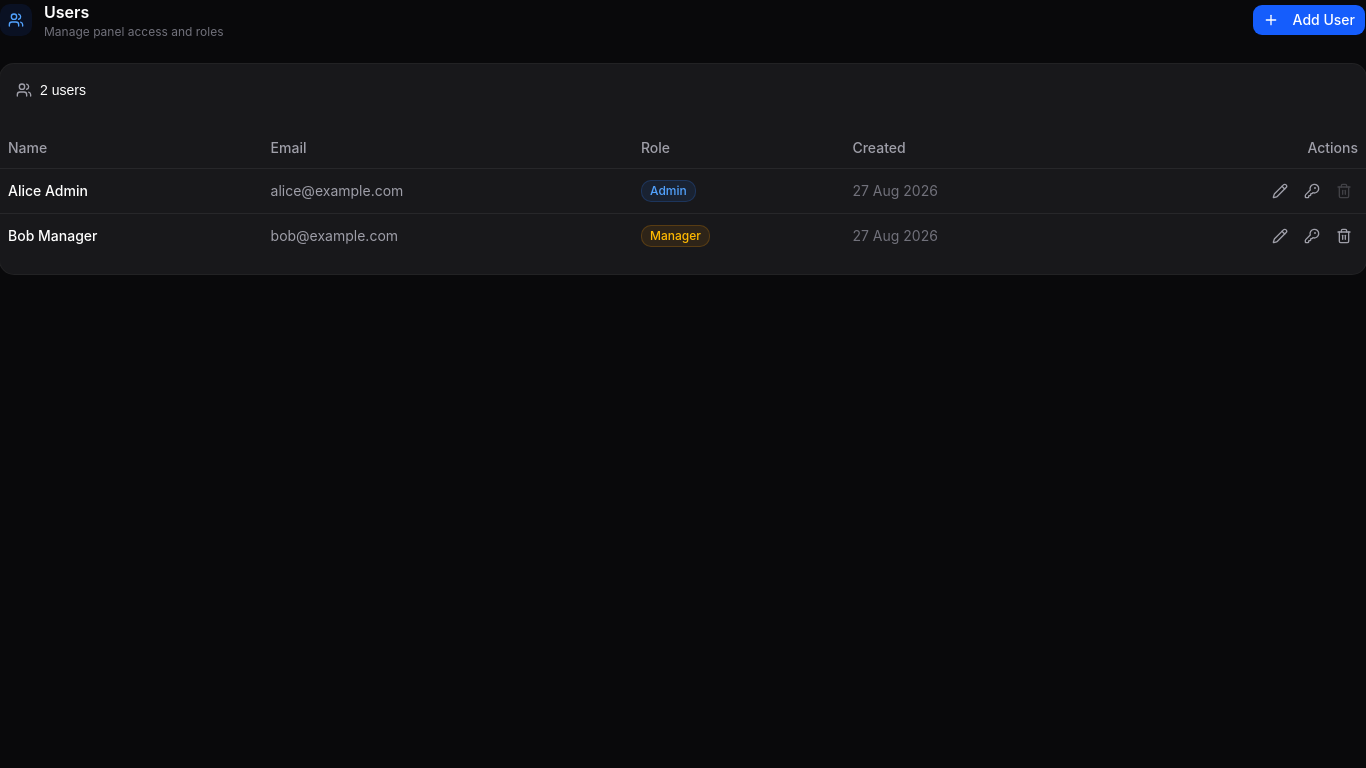
Test: Users page state boundaries › loads the newly selected user into the edit form
Expected: the text "Alice Admin" is shown, [0,168,263,213]
Click the button titled "Edit user" in the row of "Alice Admin": [1280, 190] box [1266,176,1294,204]
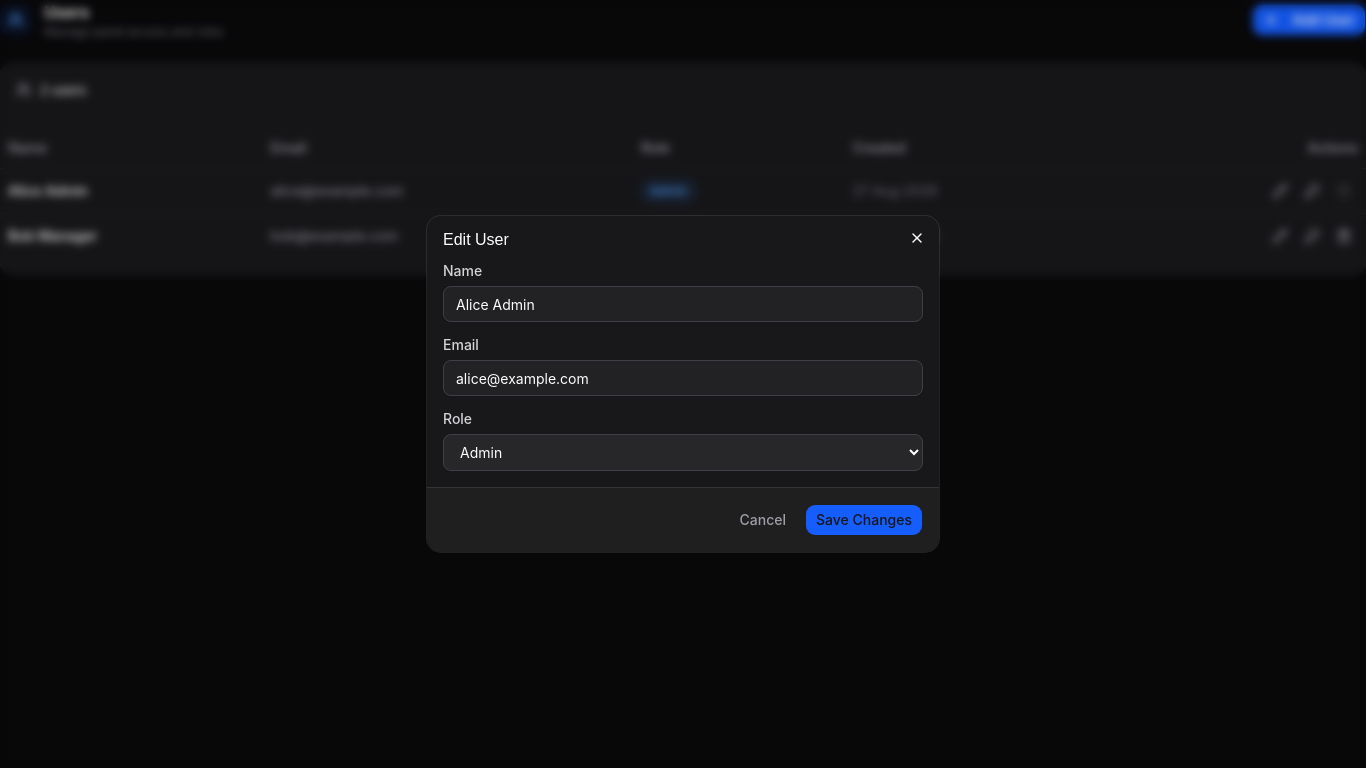
Now the 1st field showing "Alice Admin" is shown, box [443,286,923,322]
Now the 2nd field showing "alice@example.com" is shown, box [443,360,923,396]
Click the button "Cancel": [763, 520] box [728,504,797,536]
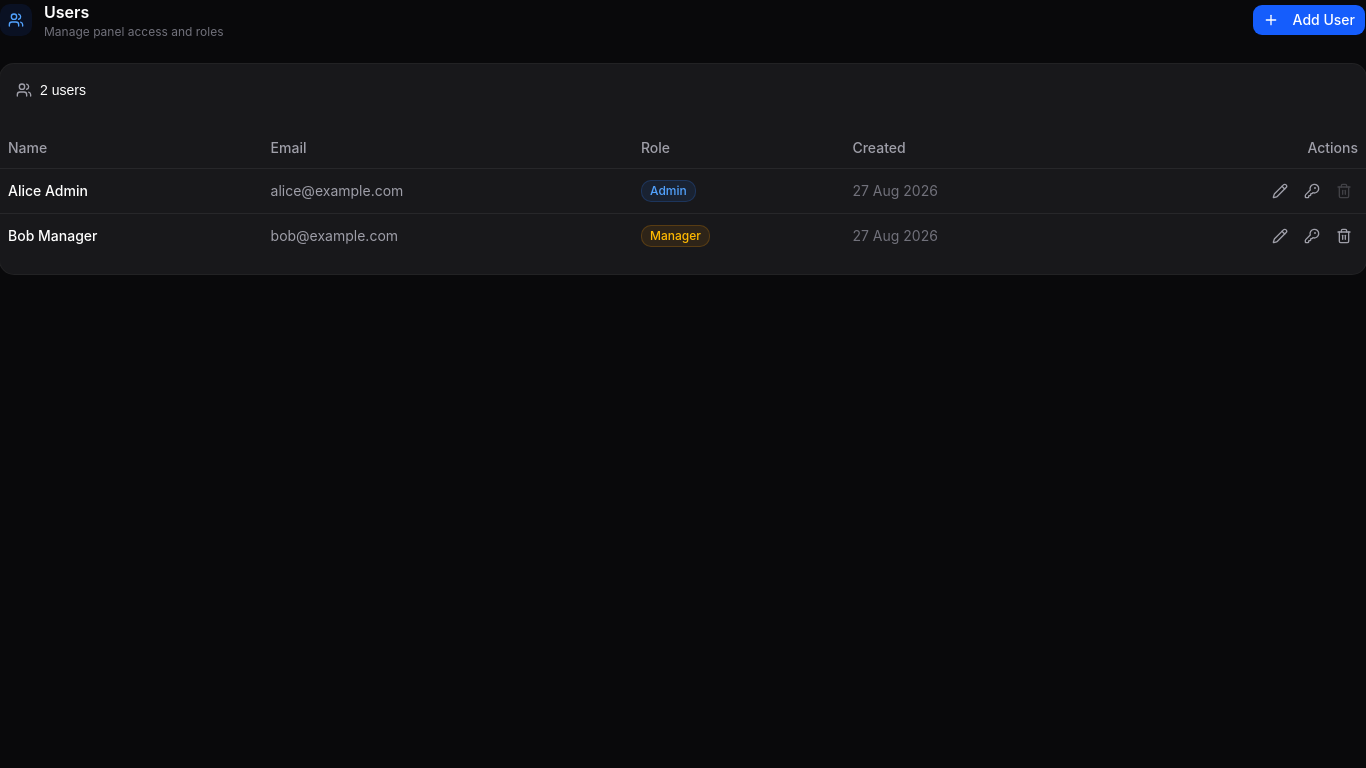
Click the button titled "Edit user" in the row of "Bob Manager": [1280, 236] box [1266,222,1294,250]
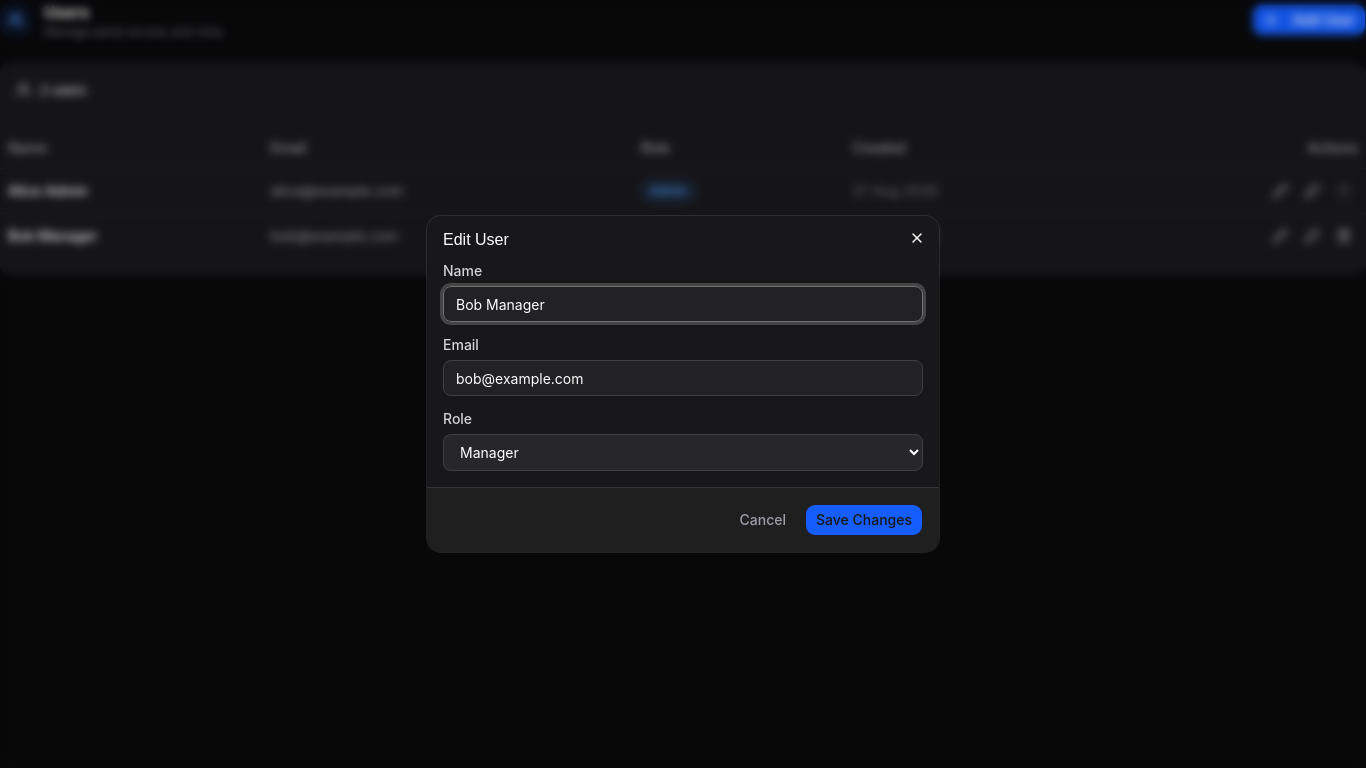
Now the 1st field showing "Bob Manager" is shown, box [443,286,923,322]
Now the 2nd field showing "bob@example.com" is shown, box [443,360,923,396]
